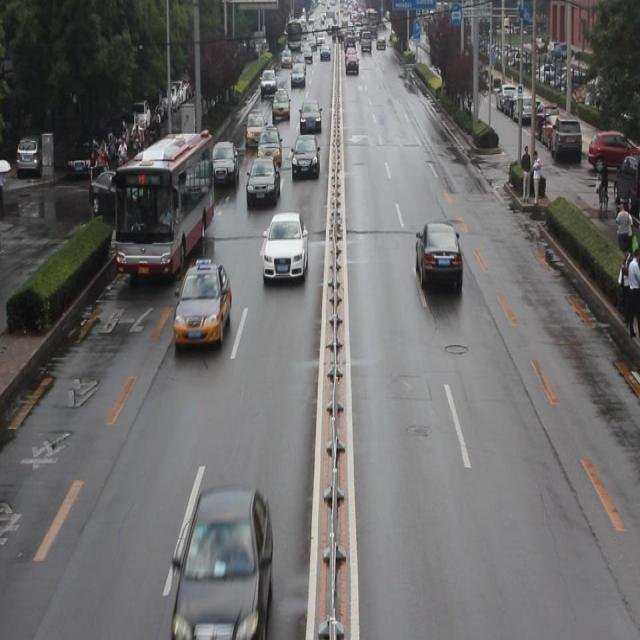car: (172, 486, 272, 640), (173, 256, 231, 348), (414, 222, 462, 294), (261, 212, 308, 283), (90, 170, 148, 219), (244, 157, 280, 206), (207, 139, 239, 187), (290, 137, 320, 178), (257, 124, 282, 164), (244, 110, 266, 148), (299, 100, 322, 133), (270, 89, 290, 123)
van: (116, 129, 214, 279)
